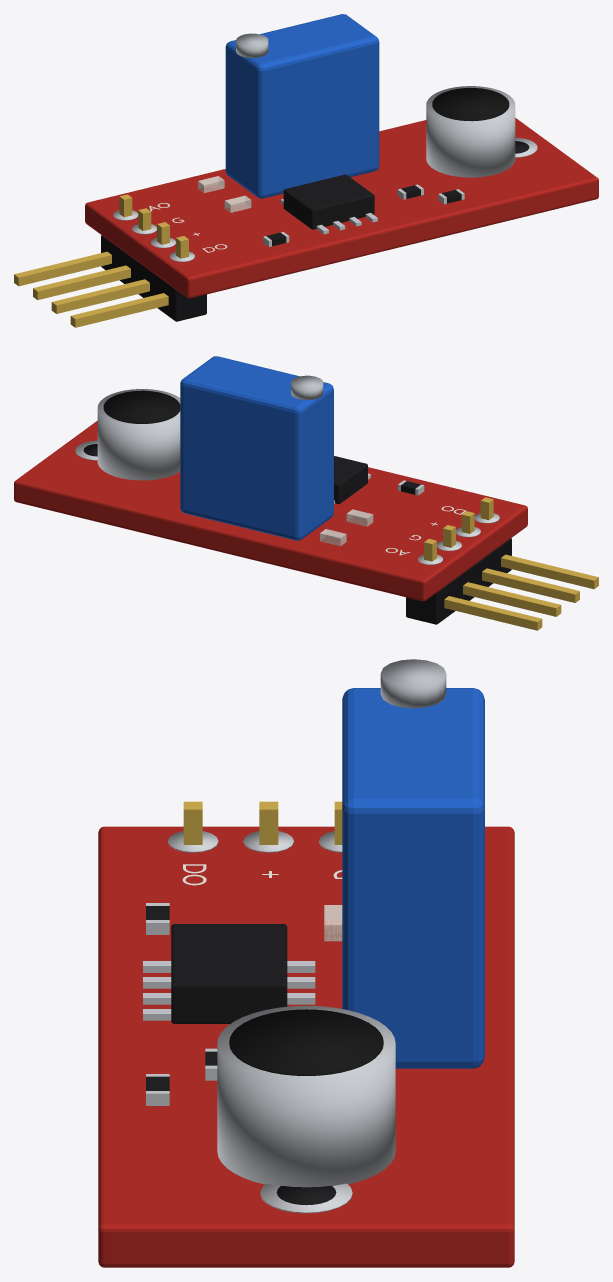
Rendered from small-sound-sensor.glb.
3 renders of one model, top to bottom at view 1: azimuth 30°, elevation 25°; view 2: azimuth 150°, elevation 25°; view 3: azimuth 270°, elevation 25°, orthographic. The views are drawn at different scales.
Visible parts, largest first — view 1: pcb.022, trimpot.006, part.072, lm393.006, header.022, part.073, pin_h.076, pin_h.077, pin_h.074, pin_h.075, trim_screw.006; view 2: pcb.022, trimpot.006, part.072, header.022, part.073, pin_h.075, pin_h.074, pin_h.077, pin_h.076, lm393.006, trim_screw.006; view 3: pcb.022, trimpot.006, part.072, lm393.006, part.073, trim_screw.006, hole_ring.036, hole.036, pin_v.076, pin_v.077.
Part boxes in pixels (<box>): pcb.022: <box>85,118,598,298</box>; trimpot.006: <box>225,14,379,198</box>; part.072: <box>426,86,515,177</box>; lm393.006: <box>283,174,374,229</box>; header.022: <box>101,235,206,321</box>; part.073: <box>432,88,509,121</box>; pin_h.076: <box>51,279,149,313</box>; pin_h.077: <box>70,293,168,327</box>; pin_h.074: <box>14,251,111,286</box>; pin_h.075: <box>33,265,130,300</box>; trim_screw.006: <box>236,33,268,57</box>; pcb.022: <box>14,421,527,601</box>; trimpot.006: <box>180,356,333,540</box>; part.072: <box>97,389,180,480</box>; header.022: <box>406,538,511,624</box>; part.073: <box>103,390,180,423</box>; pin_h.075: <box>463,582,561,616</box>; pin_h.074: <box>444,596,542,630</box>; pin_h.077: <box>501,554,598,589</box>; pin_h.076: <box>482,568,579,602</box>; lm393.006: <box>334,456,367,504</box>; trim_screw.006: <box>291,375,323,400</box>; pcb.022: <box>98,826,514,1267</box>; trimpot.006: <box>342,688,484,1068</box>; part.072: <box>217,1005,395,1187</box>; lm393.006: <box>171,924,287,1023</box>; part.073: <box>229,1009,383,1075</box>; trim_screw.006: <box>380,659,446,708</box>; hole_ring.036: <box>260,1183,352,1213</box>; hole.036: <box>276,1185,336,1205</box>; pin_v.076: <box>259,801,278,844</box>; pin_v.077: <box>183,801,202,844</box>.
Size of the model in its own units: 0.0391 by 0.0149 by 0.014.
